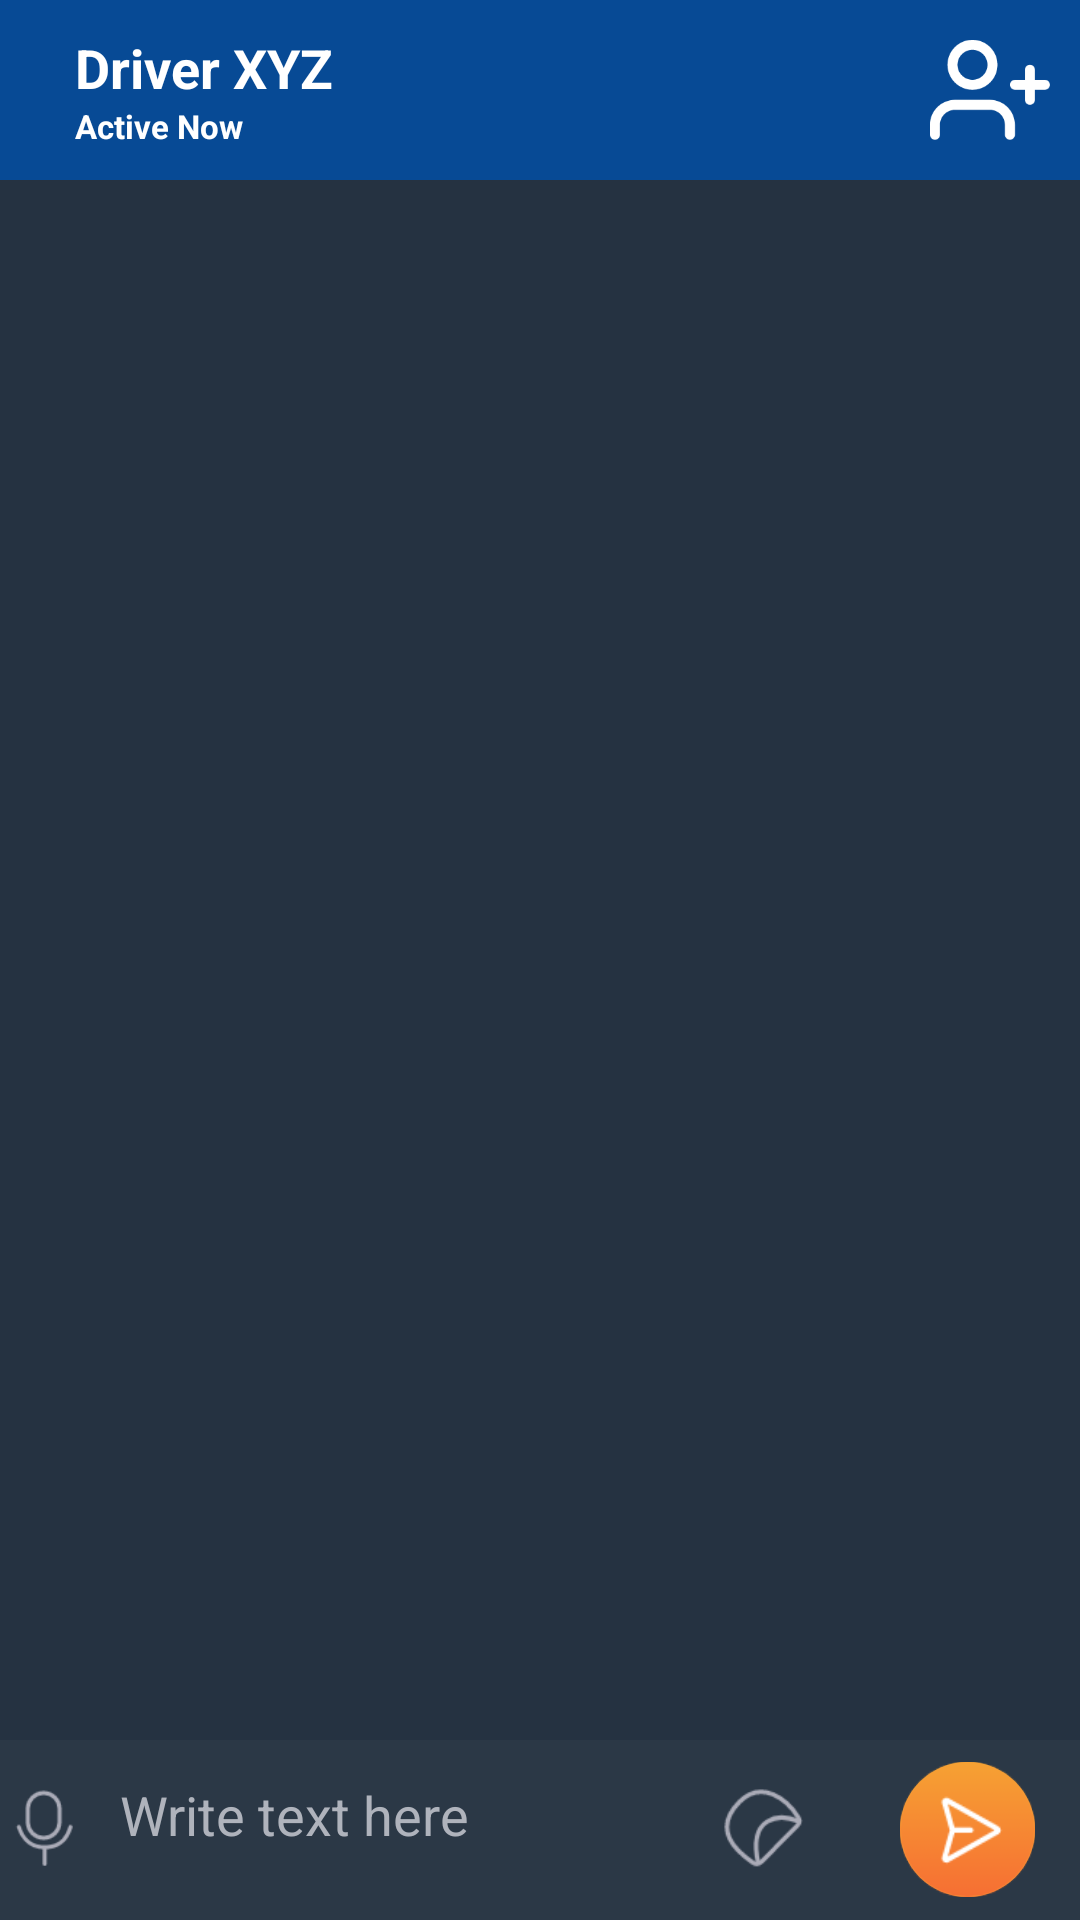

Icon bounding boxes for this 1080px×1920px phone screenshot, format (x1, y1, x2, y2):
add person: (930, 40, 1050, 140)
mic: (16, 1790, 73, 1866)
sened: (900, 1762, 1035, 1897)
